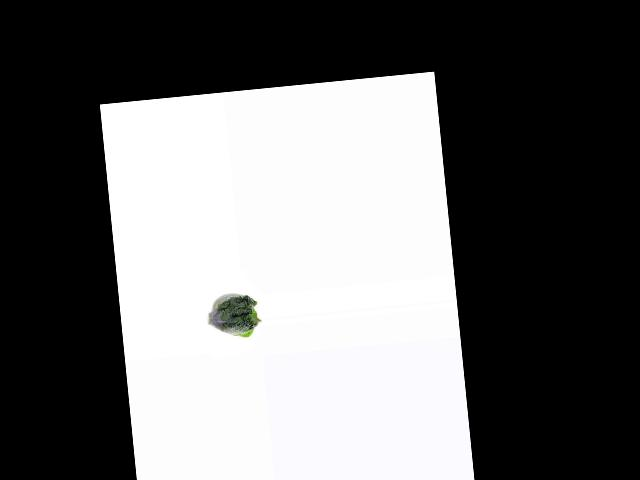lettuce: (205, 289, 261, 343)
